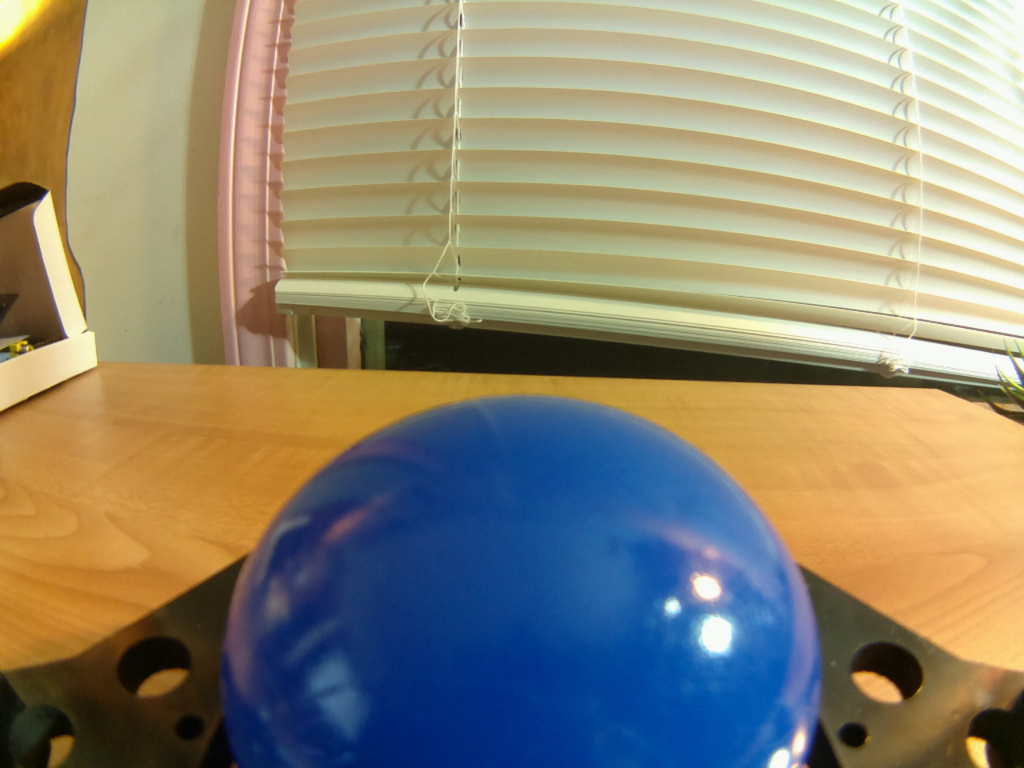ball: (220, 392, 825, 768)
